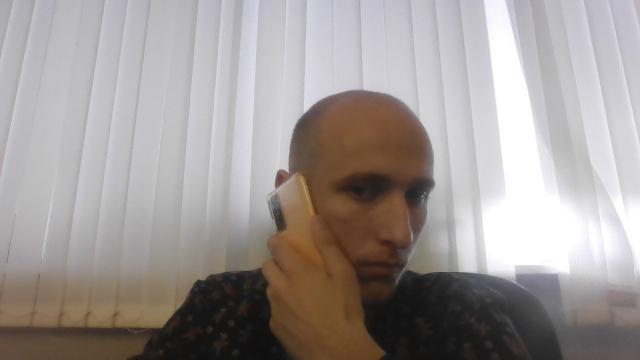Phone: (266, 170, 334, 274)
